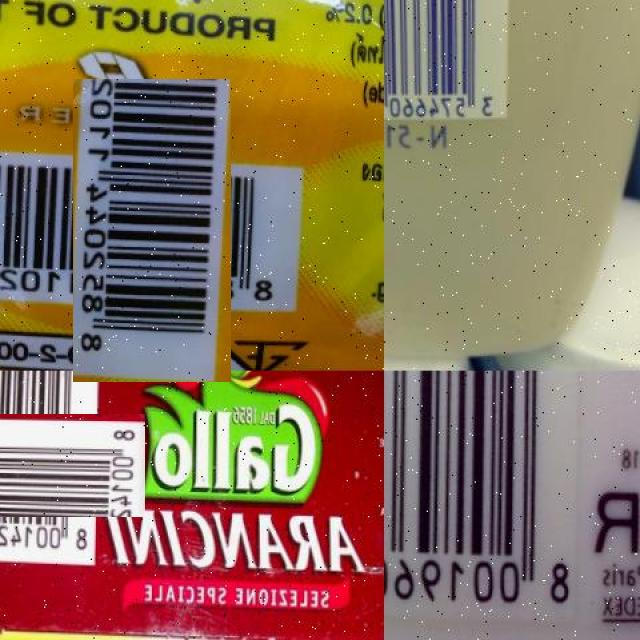Barcode: (36, 114, 268, 346), (384, 371, 583, 621), (0, 392, 125, 538), (384, 0, 513, 123)
